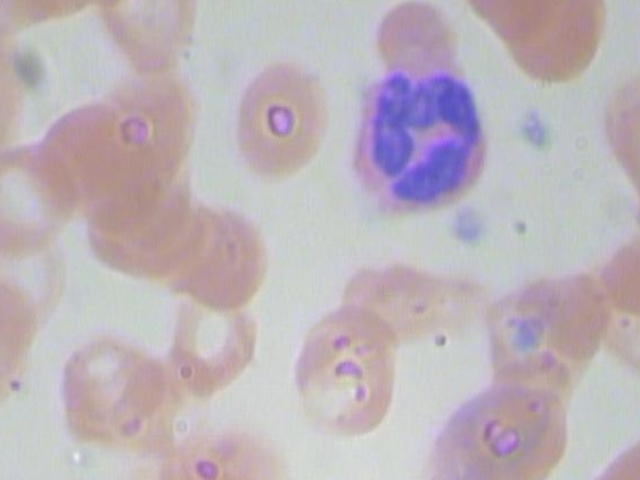Platelets: (510, 100, 555, 158)
RBC: (473, 262, 614, 390), (424, 365, 573, 480), (216, 52, 343, 182), (279, 306, 406, 435), (77, 164, 198, 288), (152, 193, 273, 317), (106, 167, 226, 290), (34, 95, 143, 215), (94, 51, 203, 171), (83, 135, 192, 255), (331, 241, 445, 350), (161, 277, 266, 394), (49, 331, 153, 448), (90, 352, 194, 468), (487, 0, 614, 86), (80, 0, 209, 82), (358, 0, 473, 91), (149, 416, 293, 480), (0, 137, 82, 248), (0, 212, 78, 322), (0, 274, 49, 394), (568, 418, 640, 480), (9, 469, 154, 480)
WBC: (345, 66, 491, 215)
